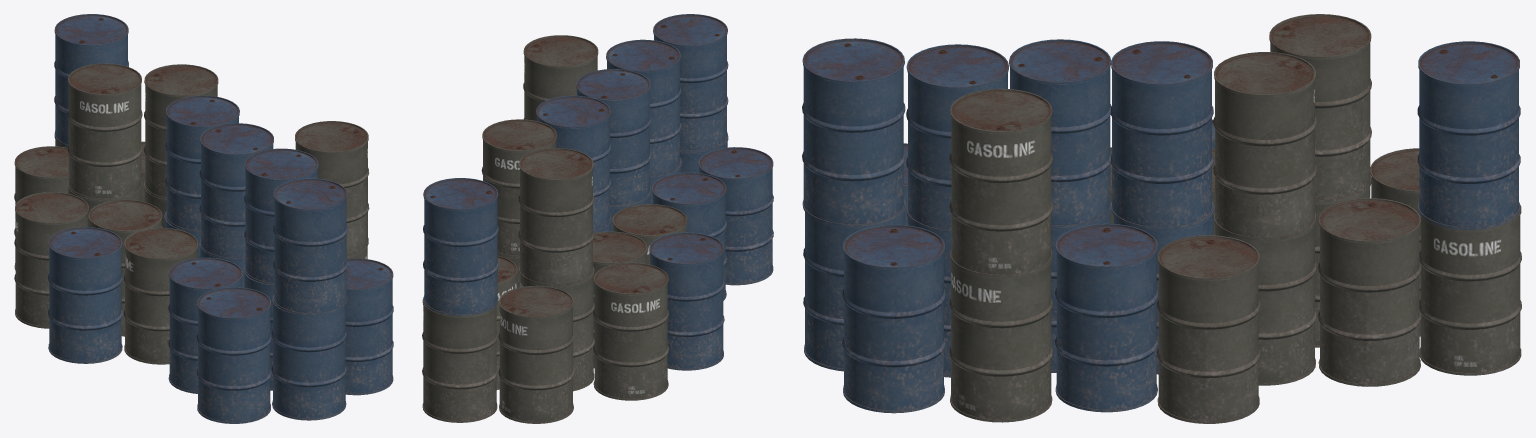
Rendered from SM_Barrel_Stack_3.fbx.
3 views of the same model, side by side, from view 1: azimuth 30°, elevation 25°; view 2: azimuth 150°, elevation 25°; view 3: azimuth 270°, elevation 25° (orthographic). The views are drawn at different scales.
Visible parts, largest first — view 1: SM_Barrel_Stack_3_LOD0; view 2: SM_Barrel_Stack_3_LOD0; view 3: SM_Barrel_Stack_3_LOD0.
Part boxes in pixels (x1,y1,x2,y2): SM_Barrel_Stack_3_LOD0: (14,14,393,423); SM_Barrel_Stack_3_LOD0: (422,14,773,423); SM_Barrel_Stack_3_LOD0: (802,14,1521,423).
Size of the model in its own units: 270 by 484 by 216.
1 material, 1 textured.
